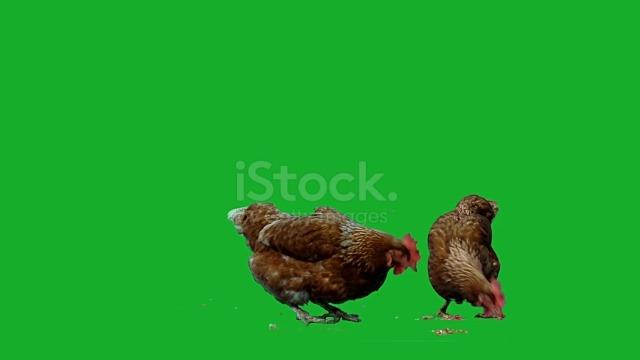Normal: (226, 194, 418, 325), (428, 190, 508, 322)
